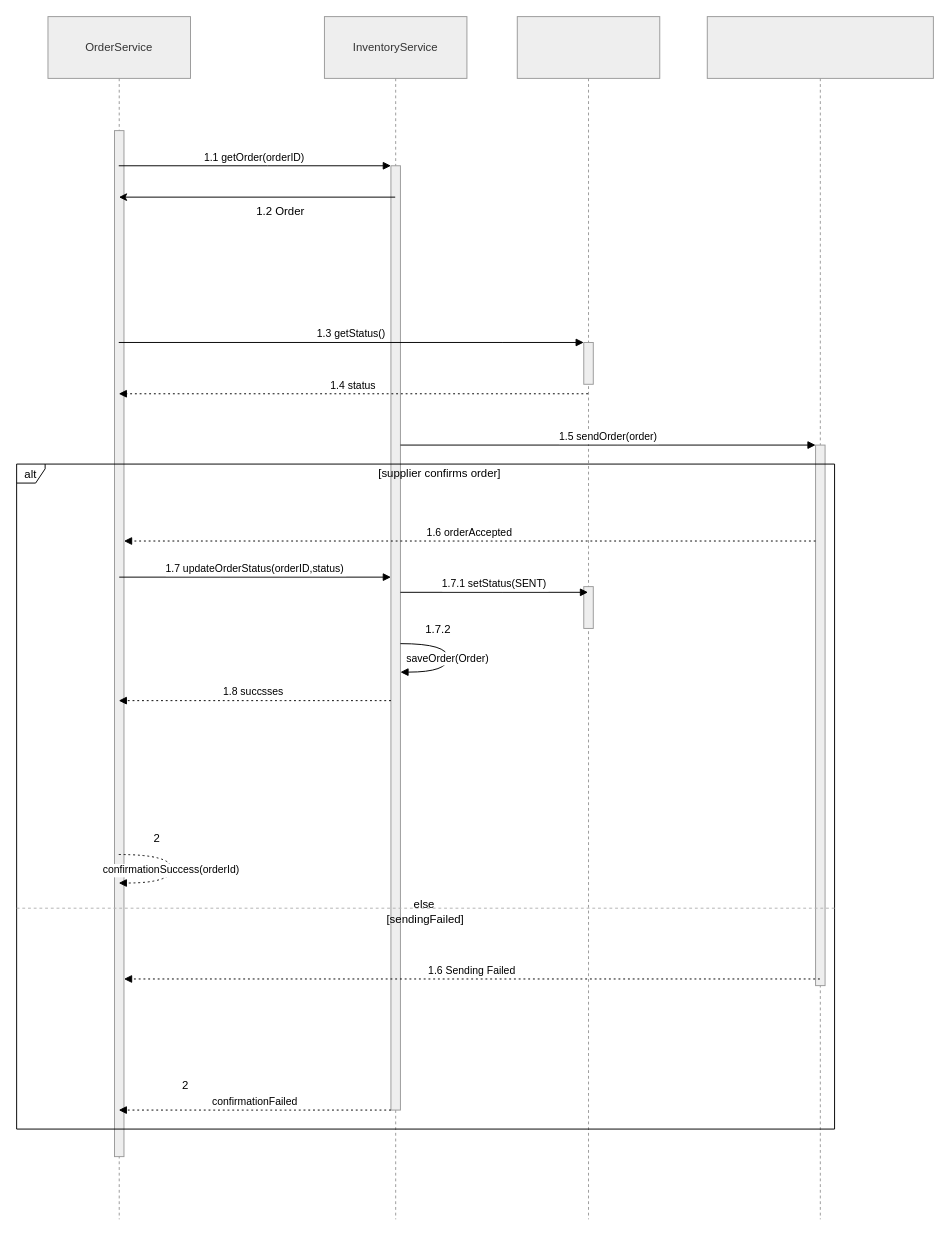
Some shapes in this 950 by 1236 pixel diagram are drawn without their labels. Each missing label, with the centre of its shape:
Order: (x=588, y=617)
SupplierSystem: (x=819, y=617)
